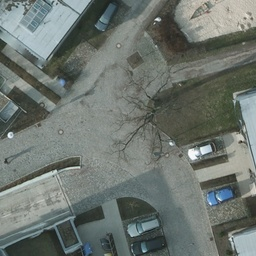car: (94, 3, 116, 32), (125, 218, 160, 236), (131, 236, 166, 254), (188, 141, 217, 161), (206, 187, 236, 205)
